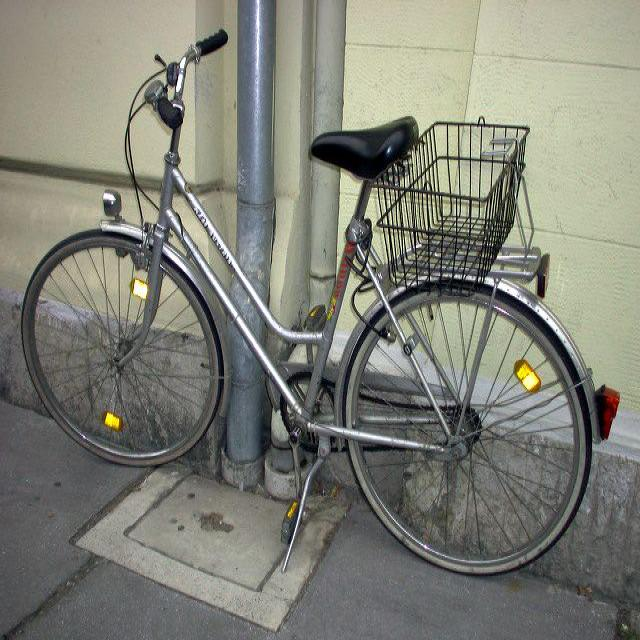bicycle: (19, 28, 602, 575)
